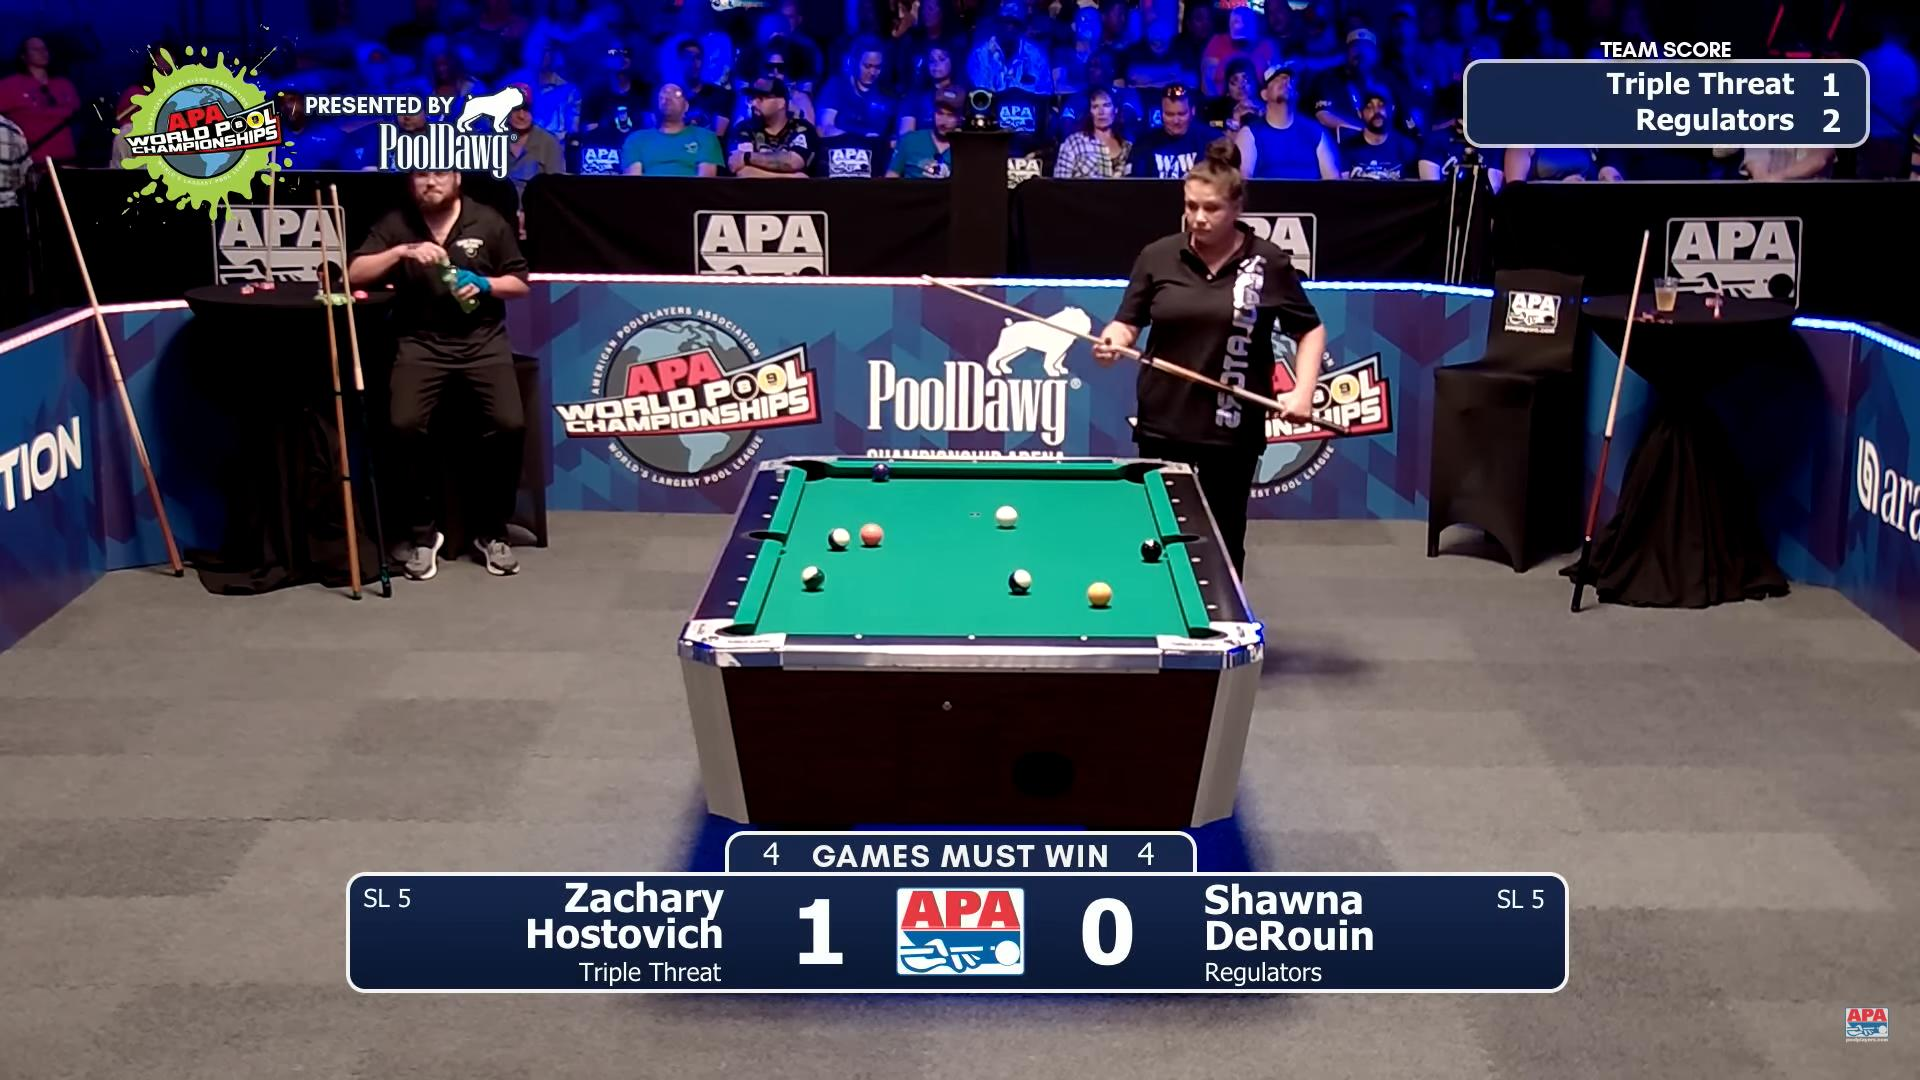Black: (1141, 539, 1162, 560)
Cue: (996, 505, 1018, 527)
Dot: (735, 574, 749, 584), (766, 492, 781, 502), (1163, 477, 1178, 488), (1168, 496, 1183, 506), (1196, 578, 1211, 588), (1204, 601, 1218, 612), (745, 553, 758, 563), (774, 475, 787, 485), (1077, 633, 1091, 644), (724, 599, 738, 608), (968, 458, 982, 467), (1051, 458, 1065, 467), (1188, 555, 1203, 564), (964, 633, 978, 642), (852, 632, 866, 641), (760, 512, 773, 521), (885, 456, 898, 465), (1175, 514, 1188, 524)
Solid: (1087, 582, 1112, 607), (861, 524, 884, 546), (873, 463, 890, 483)
Striped: (1009, 568, 1033, 593), (800, 566, 824, 588), (828, 527, 851, 550)
